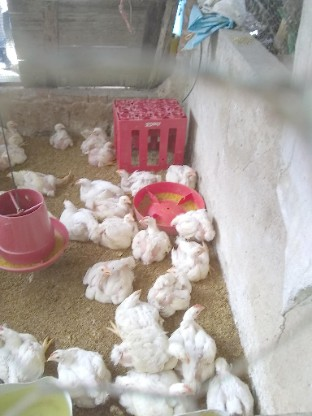Pollos: (108, 366, 197, 416), (47, 343, 112, 406), (115, 325, 190, 372), (173, 303, 216, 381), (0, 324, 55, 383), (207, 358, 260, 416), (108, 287, 160, 333), (84, 255, 137, 300), (148, 263, 192, 315), (4, 165, 61, 204), (172, 237, 212, 285), (135, 216, 173, 263), (60, 197, 98, 243), (100, 210, 140, 249), (114, 164, 163, 195), (176, 208, 217, 241), (74, 175, 115, 206), (167, 157, 199, 192), (0, 134, 26, 175), (97, 192, 133, 217), (49, 120, 75, 150), (87, 140, 119, 163), (80, 119, 106, 145), (0, 116, 22, 136)
